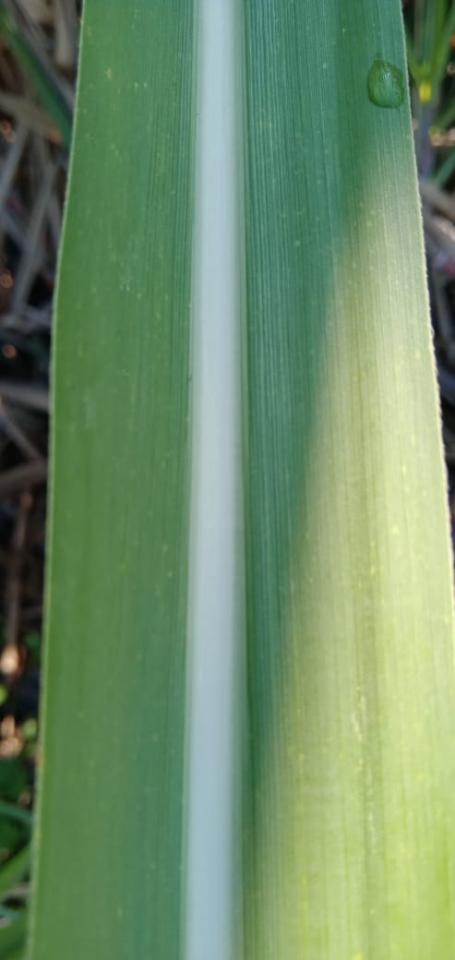Healthy: (29, 0, 454, 959)
